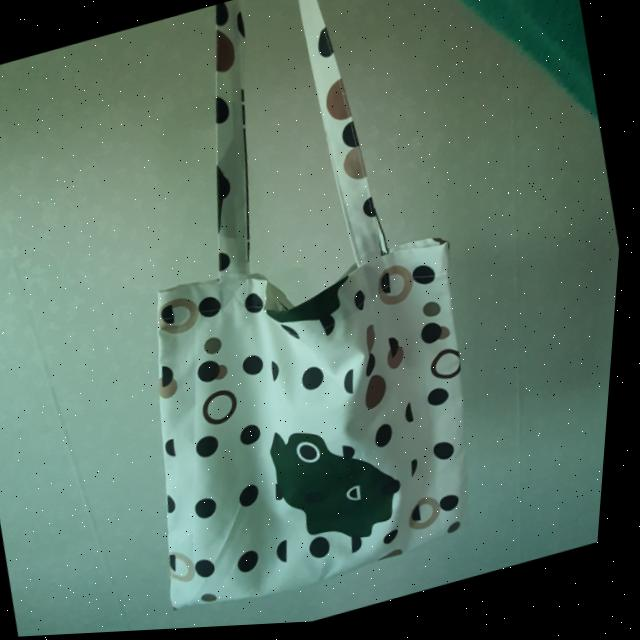ecobag: (23, 0, 569, 638)
